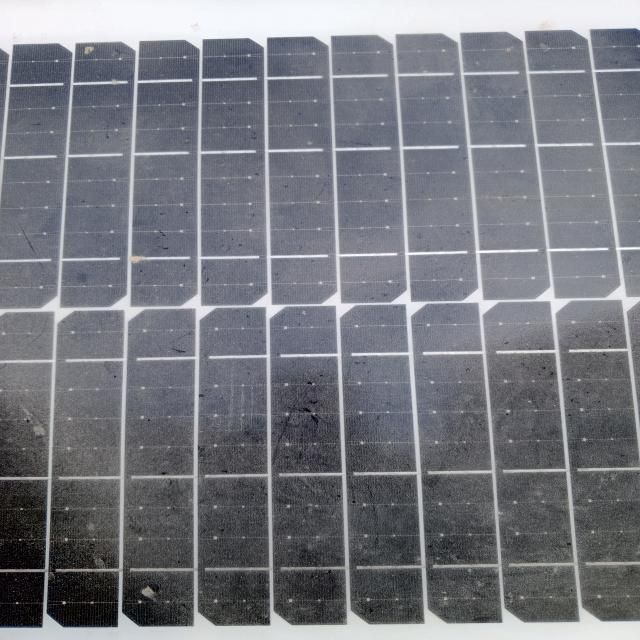Anomaly Solar Panel: (3, 18, 640, 640)
Surface Contaminant: (24, 42, 639, 628)
